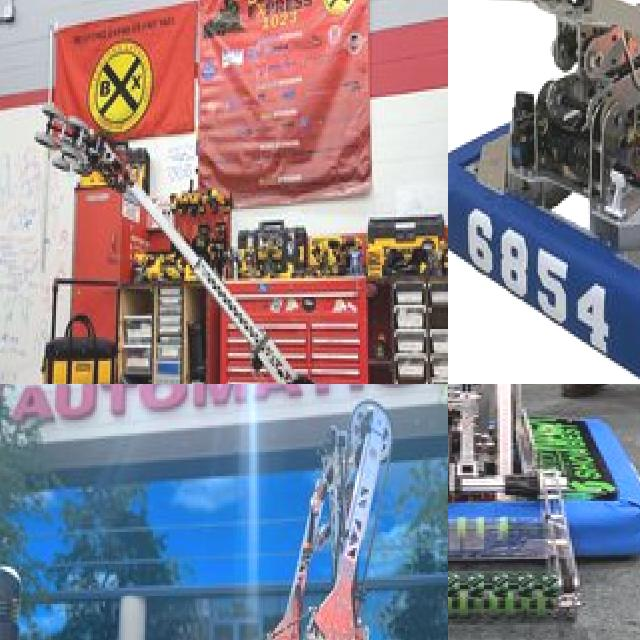FRC-Robots: (38, 47, 384, 384), (448, 0, 640, 384), (177, 392, 448, 640), (448, 384, 640, 640)
